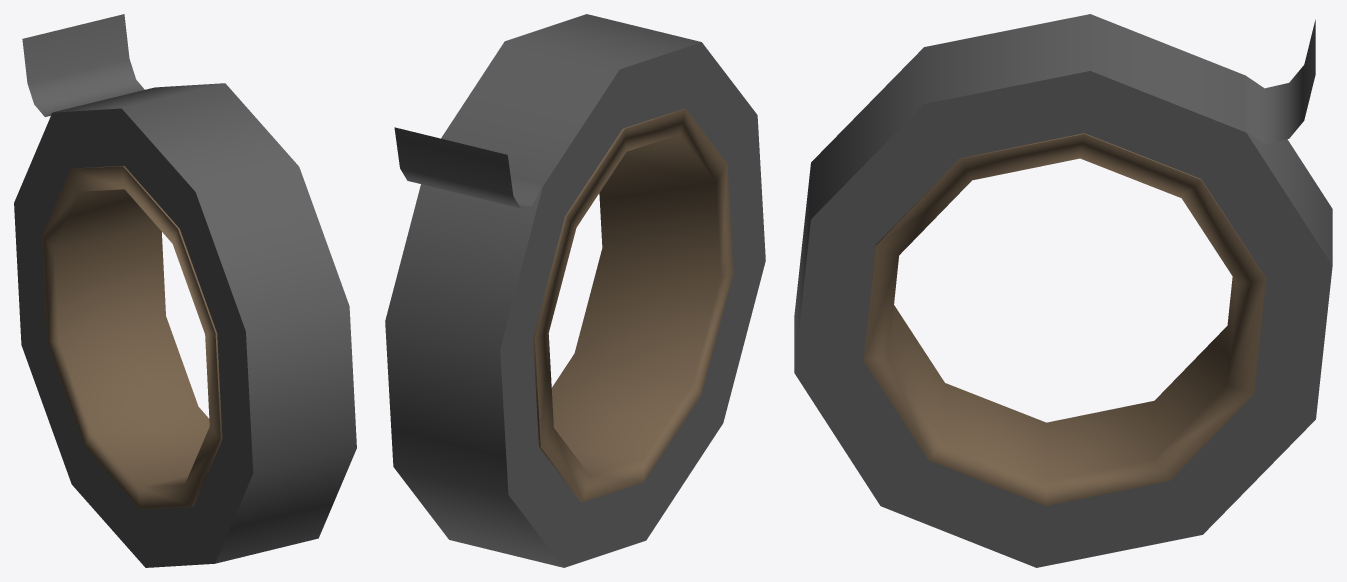
The model's file is Tape 4.fbx.
The picture shows the model from 3 angles, left to right: view 1: azimuth 30°, elevation 25°; view 2: azimuth 150°, elevation 25°; view 3: azimuth 270°, elevation 25°; orthographic projection. The views are drawn at different scales.
Parts seen in each view (by area): view 1: polySurface48, pCylinder16, polySurface49; view 2: polySurface48, pCylinder16, polySurface49; view 3: polySurface48, pCylinder16, polySurface49.
Boxes of the visible parts, left/top/right/bottom form: polySurface48: left=14, top=83, right=356, bottom=567; pCylinder16: left=42, top=166, right=222, bottom=509; polySurface49: left=22, top=14, right=153, bottom=116; polySurface48: left=385, top=14, right=765, bottom=567; pCylinder16: left=533, top=108, right=733, bottom=502; polySurface49: left=394, top=127, right=541, bottom=208; polySurface48: left=794, top=14, right=1332, bottom=567; pCylinder16: left=863, top=133, right=1265, bottom=505; polySurface49: left=1245, top=19, right=1315, bottom=144.
Bounding box in the file's own units: 0.3902 × 1.54 × 1.51.
